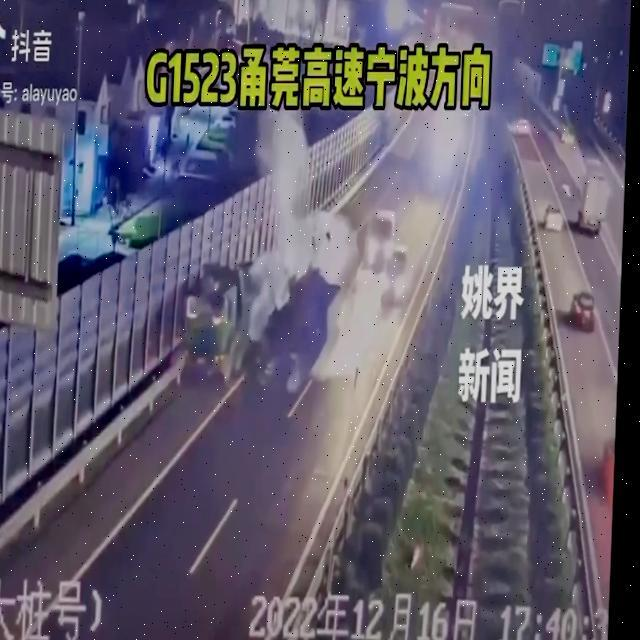multiple_accident: (169, 236, 402, 437)
